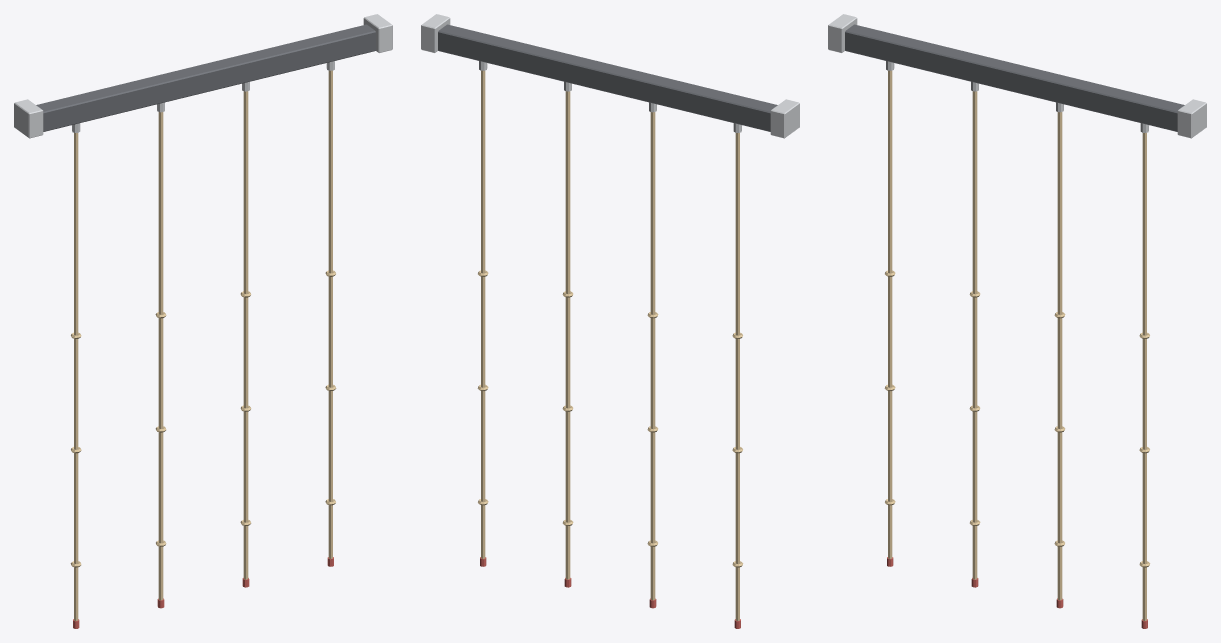
The model's file is community-sports-hall-and-changing-rooms-climbing-rope-3ccc68ed__35096.glb.
The picture shows the model from 3 angles, left to right: view 1: azimuth 30°, elevation 25°; view 2: azimuth 150°, elevation 25°; view 3: azimuth 330°, elevation 25°; orthographic projection.
Parts seen in each view (by area): view 1: climbing-rope-set; view 2: climbing-rope-set; view 3: climbing-rope-set.
Part boxes in pixels (bbox=[...]): climbing-rope-set: bbox=[14, 14, 392, 628]; climbing-rope-set: bbox=[421, 14, 799, 628]; climbing-rope-set: bbox=[828, 14, 1206, 628].
Size of the model in its own units: 3 by 4.2 by 0.2199.
